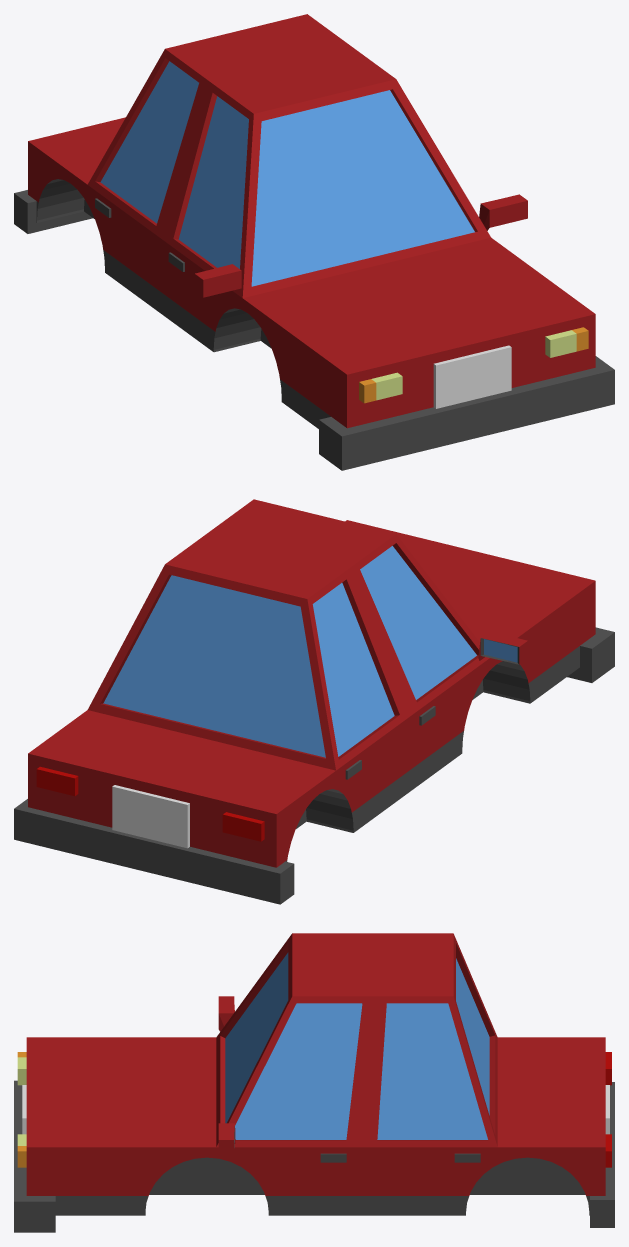
Rendered from car_red.glb.
3 renders of one model, top to bottom at view 1: azimuth 30°, elevation 25°; view 2: azimuth 150°, elevation 25°; view 3: azimuth 270°, elevation 25°, orthographic. The views are drawn at different scales.
Parts seen in each view (by area): view 1: car.003, Cube.003, mirriors.003, lights.003; view 2: car.003, Cube.003, bk lights.003, mirriors.003; view 3: car.003, mirriors.003, lights.003, Cube.002, Cube.003, bk lights.003.
Boxes of the visible parts, box(x1,y1,x2,y2) form: car.003: box(14, 14, 614, 470); Cube.003: box(433, 345, 511, 408); mirriors.003: box(194, 194, 527, 297); lights.003: box(359, 327, 588, 403); car.003: box(14, 499, 614, 904); Cube.003: box(112, 785, 189, 848); bk lights.003: box(36, 766, 264, 841); mirriors.003: box(478, 631, 527, 664); car.003: box(14, 933, 614, 1232); mirriors.003: box(218, 996, 235, 1156); lights.003: box(17, 1052, 26, 1167); Cube.002: box(320, 1153, 480, 1162); Cube.003: box(22, 1085, 609, 1134); bk lights.003: box(605, 1052, 611, 1167).
Size of the model in its own units: 4.34 by 2.92 by 7.67.
